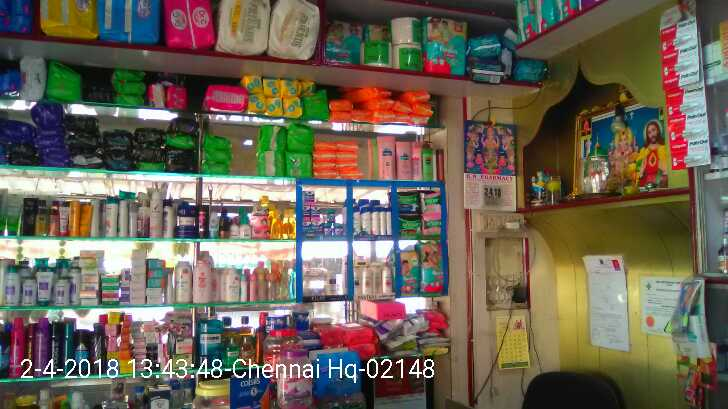vicks: (302, 190, 343, 235)
